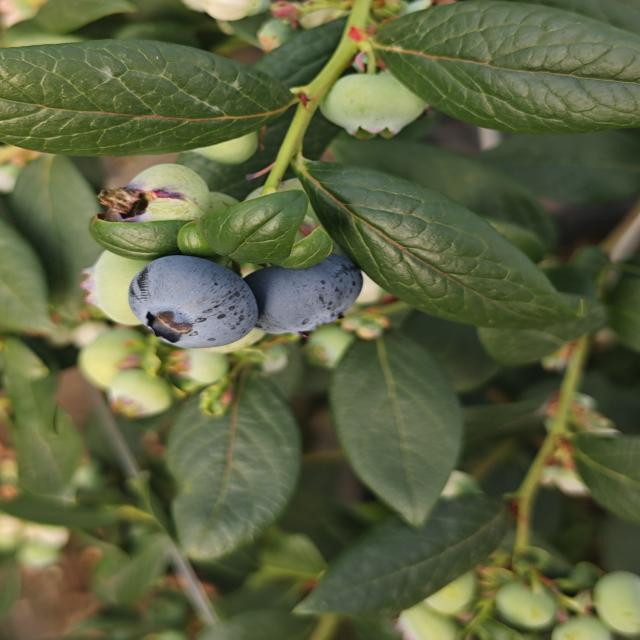ripe: (136, 262, 258, 344), (251, 258, 366, 342)
